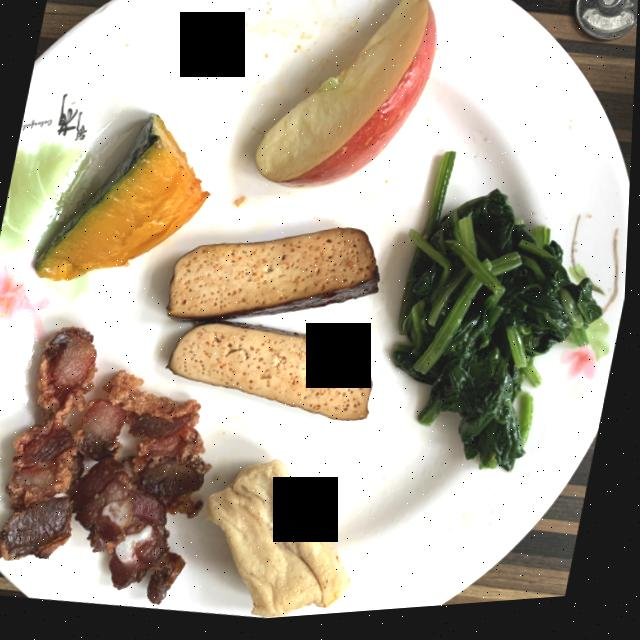apple -sliced-: (256, 0, 436, 192)
coin: (575, 3, 638, 50)
creamy tofu -without sauce-: (211, 464, 355, 622)
firm tofu: (169, 233, 381, 427)
mustard greens: (396, 159, 605, 480)
pumpkin: (36, 117, 210, 283)
red grilled pork: (0, 328, 215, 607)
